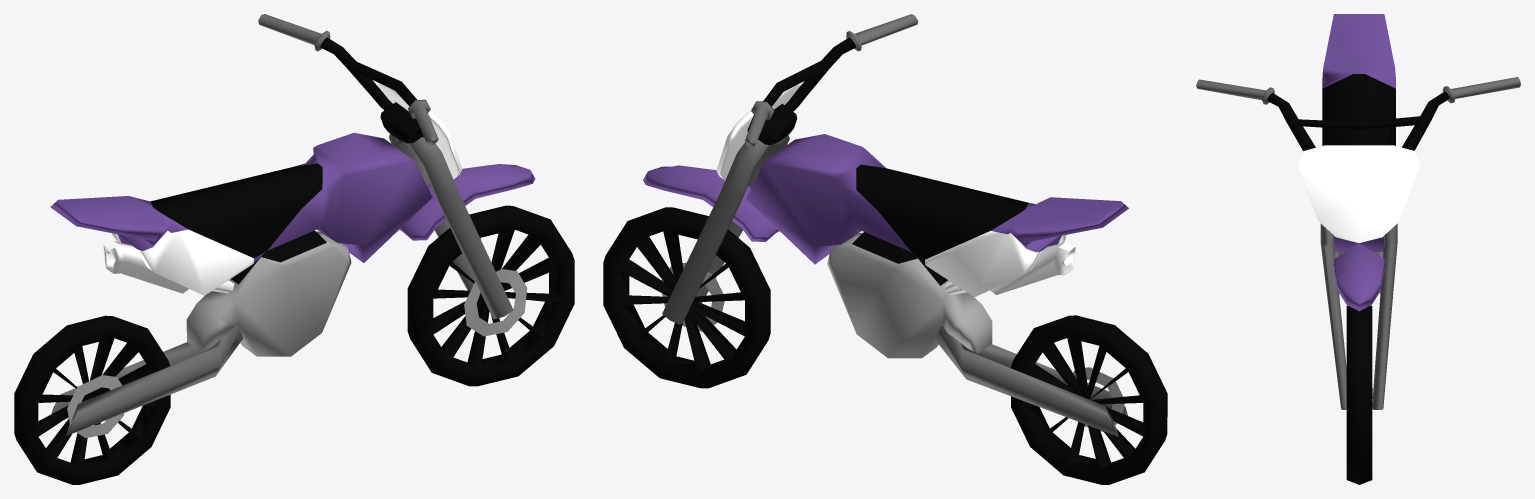
The model's file is DirtBike125ccPurple.glb.
The picture shows the model from 3 angles, left to right: view 1: azimuth 30°, elevation 25°; view 2: azimuth 150°, elevation 25°; view 3: azimuth 270°, elevation 25°; orthographic projection. The views are drawn at different scales.
Visible parts, largest first — view 1: DirtBike125ccPurple; view 2: DirtBike125ccPurple; view 3: DirtBike125ccPurple.
Part boxes in pixels (x1,y1,x2,y2): DirtBike125ccPurple: (14, 14, 574, 484); DirtBike125ccPurple: (603, 14, 1167, 484); DirtBike125ccPurple: (1196, 14, 1520, 484).
Size of the model in its own units: 1.92 by 1.13 by 1.01.
Materials: 1 (1 with a texture image).
